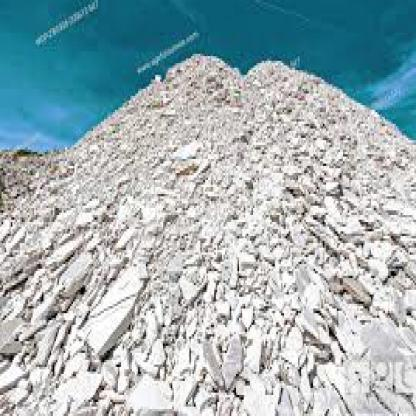Metamorphic_Quartize: (79, 243, 149, 358), (354, 313, 414, 365)
